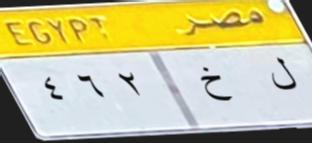2: (112, 69, 147, 102)
4: (40, 70, 67, 107)
6: (74, 68, 106, 103)
khaa: (197, 61, 233, 105)
laam: (267, 53, 300, 100)
